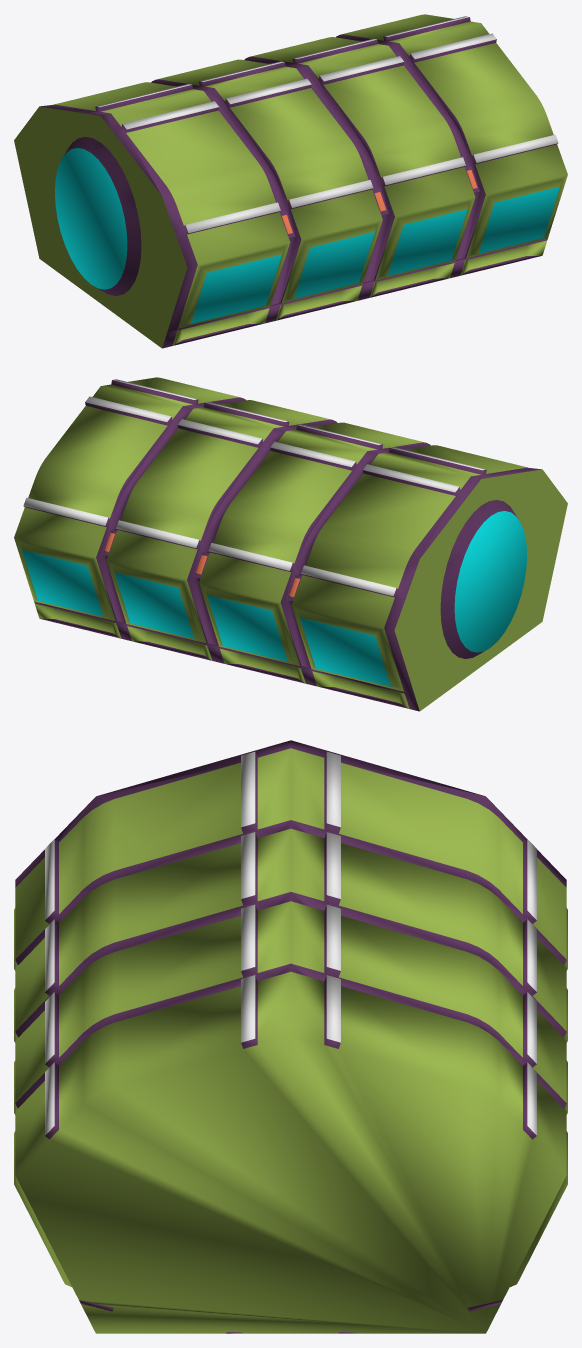
Rendered from spaceship_interior.fbx.
3 renders of one model, top to bottom at view 1: azimuth 30°, elevation 25°; view 2: azimuth 150°, elevation 25°; view 3: azimuth 270°, elevation 25°, orthographic. The views are drawn at different scales.
Visible parts, largest first — view 1: Cylinder; view 2: Cylinder; view 3: Cylinder.
Part boxes in pixels (x1,y1,x2,y2): Cylinder: (14, 14, 567, 348); Cylinder: (14, 377, 567, 711); Cylinder: (14, 740, 567, 1333).
Bounding box in the file's own units: 1969 × 905 × 1524.
